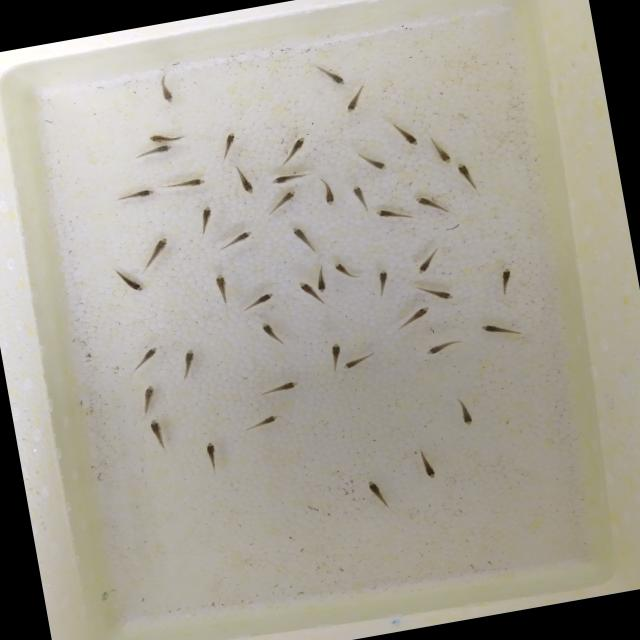fingerling: (270, 128, 320, 170), (408, 186, 459, 224), (473, 312, 530, 346), (136, 229, 180, 273), (386, 300, 440, 334), (356, 472, 398, 514), (306, 56, 354, 92), (209, 124, 252, 164), (332, 82, 378, 119), (406, 442, 446, 484), (410, 276, 461, 308), (416, 330, 469, 360), (254, 372, 308, 401), (232, 286, 284, 316), (110, 260, 148, 301), (147, 68, 184, 110), (123, 339, 165, 376), (349, 143, 394, 177), (211, 224, 258, 256), (286, 219, 322, 260), (288, 273, 324, 314), (130, 379, 167, 418), (387, 115, 423, 154), (172, 342, 206, 383), (447, 391, 481, 431), (190, 197, 222, 239), (254, 315, 290, 352), (227, 164, 262, 202), (452, 156, 484, 197), (488, 262, 522, 300), (369, 200, 415, 228), (144, 412, 172, 458), (198, 435, 226, 481), (262, 186, 302, 218), (160, 170, 209, 195), (408, 244, 444, 278), (238, 409, 285, 435), (266, 166, 316, 190), (312, 172, 342, 212), (112, 181, 158, 206), (340, 347, 384, 373), (368, 263, 398, 301), (208, 268, 235, 308), (132, 142, 180, 164), (329, 254, 364, 284), (346, 180, 373, 218), (427, 134, 455, 168), (141, 127, 186, 147), (326, 335, 346, 375), (312, 262, 331, 294)
